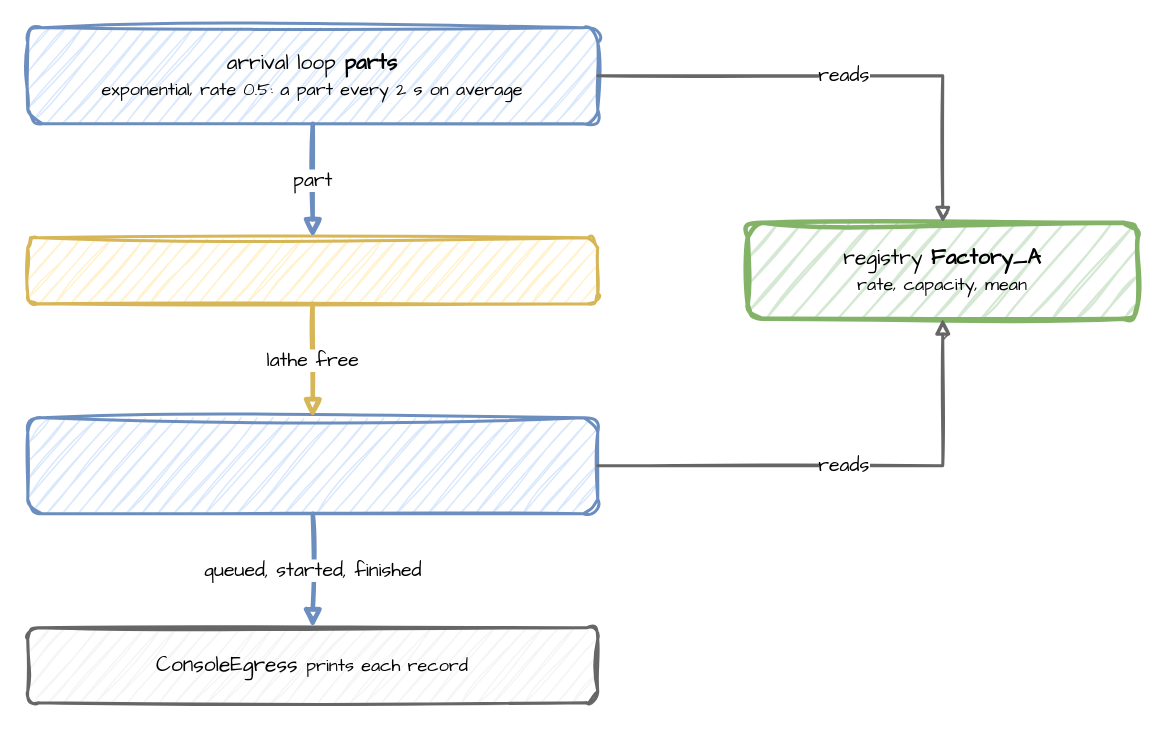
This 1166x729 diagram has some shape labels left out. Here are the shapes that lost their labels. From the top down, the centre of each, then its label:
At (312,270): "lathe queue".
At (312,465): "task process_part takes the lathe, machines for 1.5 s".
